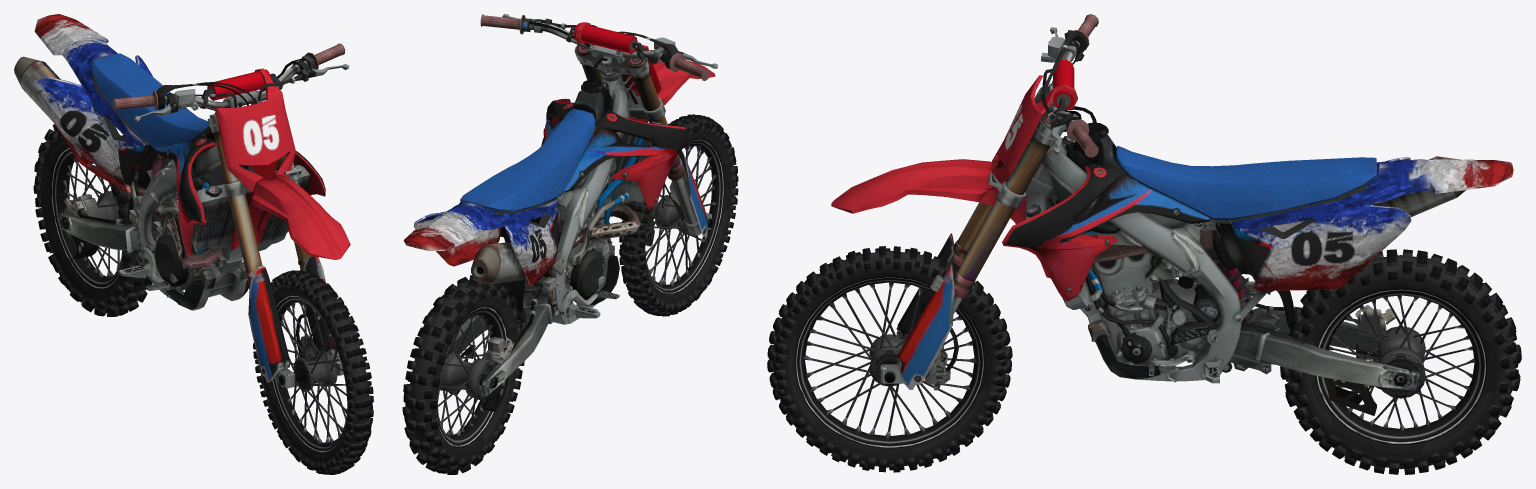
The model's file is DirtBike.fbx.
3 views of the same model, side by side, from view 1: azimuth 30°, elevation 25°; view 2: azimuth 150°, elevation 25°; view 3: azimuth 270°, elevation 25° (orthographic). The views are drawn at different scales.
Visible parts, largest first — view 1: Body, Handles, FWheel, RWheel, FrontSuspension, RearSuspension; view 2: Body, RWheel, FWheel, Handles, RearSuspension, FrontSuspension; view 3: Body, RWheel, FWheel, Handles, RearSuspension, FrontSuspension.
Boxes of the visible parts, x1=… form: Body: x1=14, y1=14, x2=325, y2=310; Handles: x1=112, y1=43, x2=350, y2=289; FWheel: x1=253, y1=270, x2=373, y2=474; RWheel: x1=33, y1=124, x2=155, y2=316; FrontSuspension: x1=248, y1=255, x2=343, y2=388; RearSuspension: x1=59, y1=194, x2=159, y2=264; Body: x1=403, y1=57, x2=690, y2=324; RWheel: x1=402, y1=275, x2=524, y2=474; FWheel: x1=619, y1=114, x2=738, y2=316; Handles: x1=480, y1=14, x2=717, y2=180; RearSuspension: x1=448, y1=277, x2=552, y2=411; FrontSuspension: x1=623, y1=150, x2=711, y2=246; Body: x1=1002, y1=106, x2=1513, y2=383; RWheel: x1=1280, y1=249, x2=1521, y2=474; FWheel: x1=767, y1=246, x2=1012, y2=472; Handles: x1=831, y1=14, x2=1098, y2=298; RearSuspension: x1=1206, y1=303, x2=1419, y2=415; FrontSuspension: x1=880, y1=233, x2=961, y2=390.
Size of the model in its own units: 99.69 by 142 by 242.
2 materials, 2 textured.
